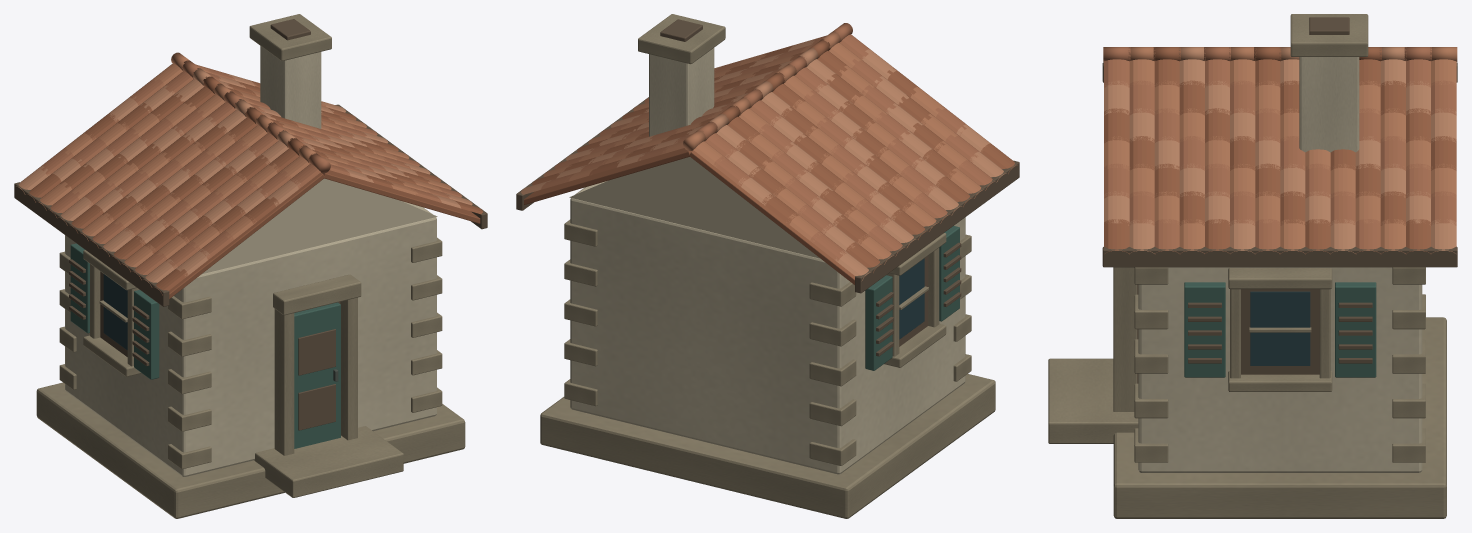
Rendered from coastal-cottage.glb.
3 renders of one model, left to right at view 1: azimuth 30°, elevation 25°; view 2: azimuth 150°, elevation 25°; view 3: azimuth 270°, elevation 25°, orthographic. The views are drawn at different scales.
Visible parts, largest first — view 1: CoastalCottageShell, CottageWindowPanes; view 2: CoastalCottageShell, CottageWindowPanes; view 3: CoastalCottageShell, CottageWindowPanes.
Boxes of the visible parts, x1,y1,x2,y2 form: CoastalCottageShell: (14, 14, 487, 518); CottageWindowPanes: (103, 274, 127, 350); CoastalCottageShell: (516, 14, 1019, 518); CottageWindowPanes: (899, 258, 924, 339); CoastalCottageShell: (1048, 14, 1457, 518); CottageWindowPanes: (1250, 291, 1310, 365).
Size of the model in its own units: 0.4086 by 0.452 by 0.375.
Materials: 10 (2 with a texture image).
